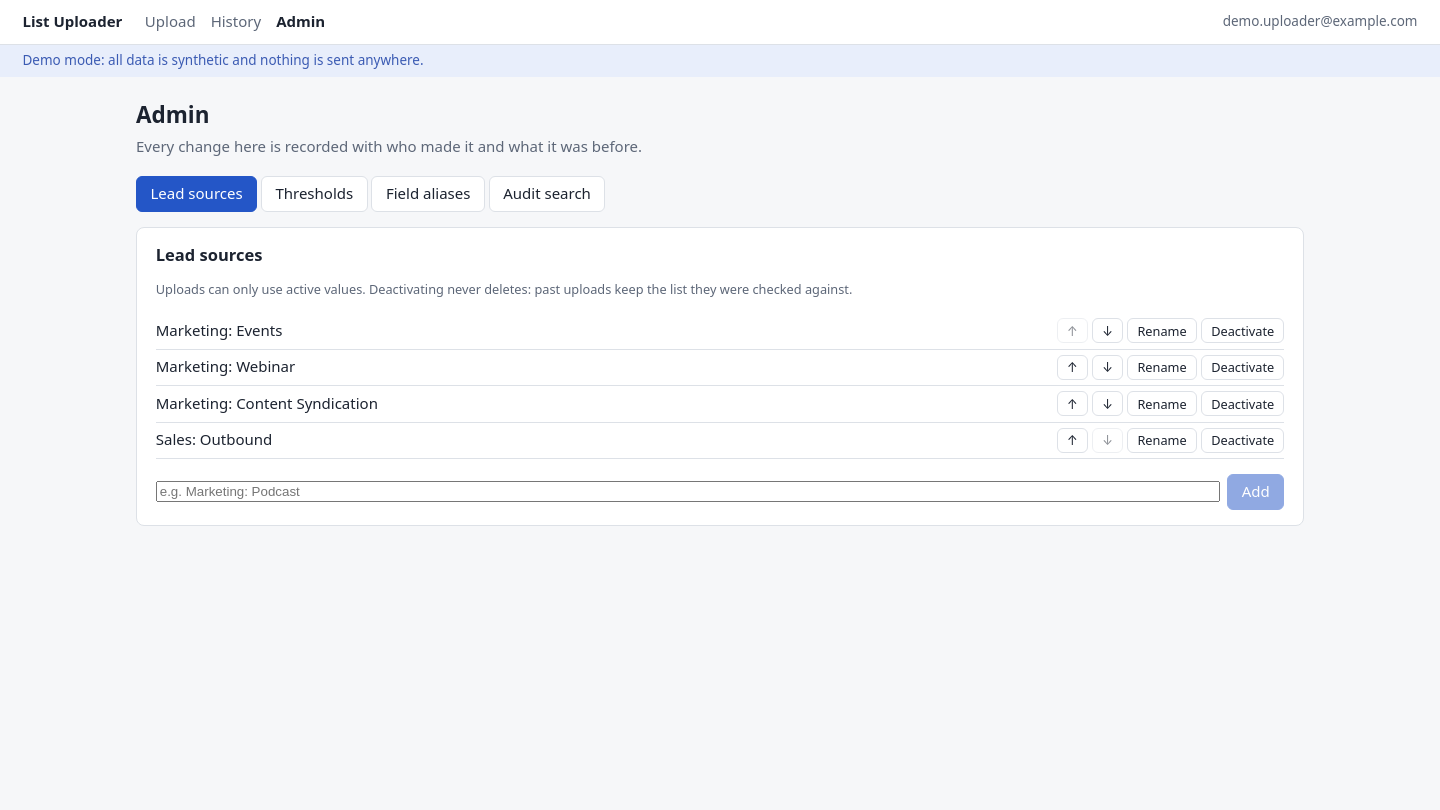
Test: admin › shows a reload prompt when someone else changed the setting
Click the tab "Lead sources" at (197, 194), box [136,176,257,212]
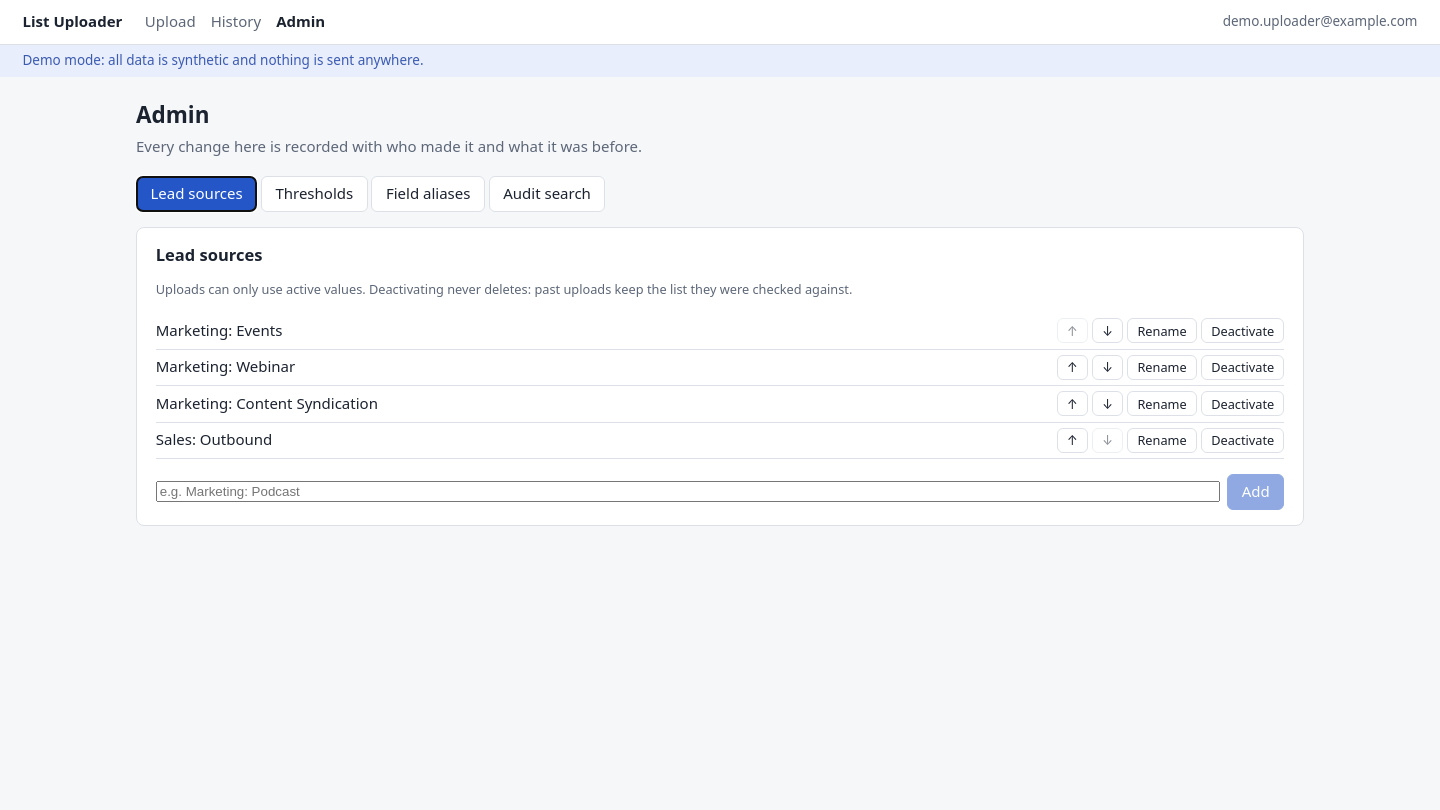
Type "X" into the field named "New lead source" at (688, 492), box [156,481,1220,502]
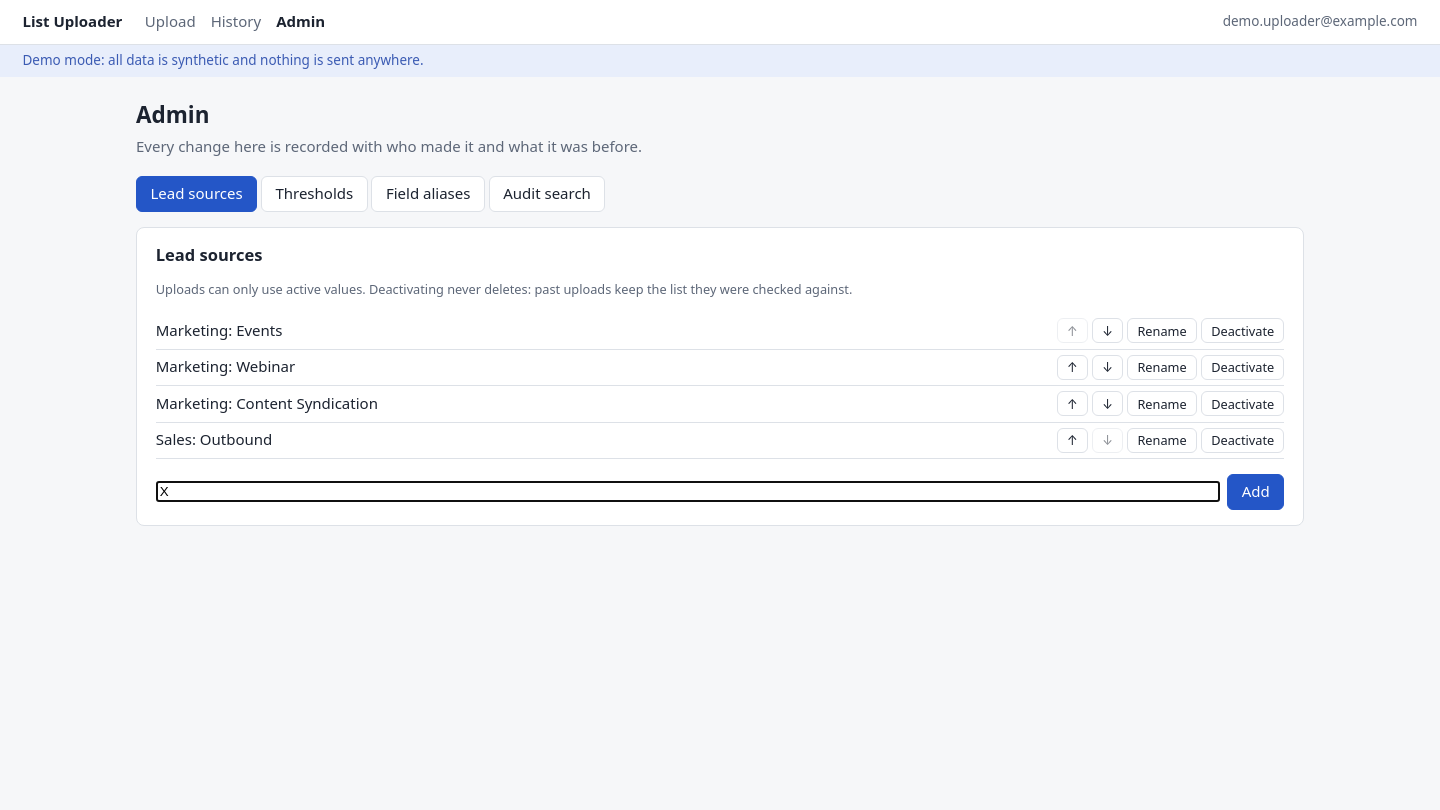
Click the button "Add" at (1256, 492), box [1227,474,1284,510]
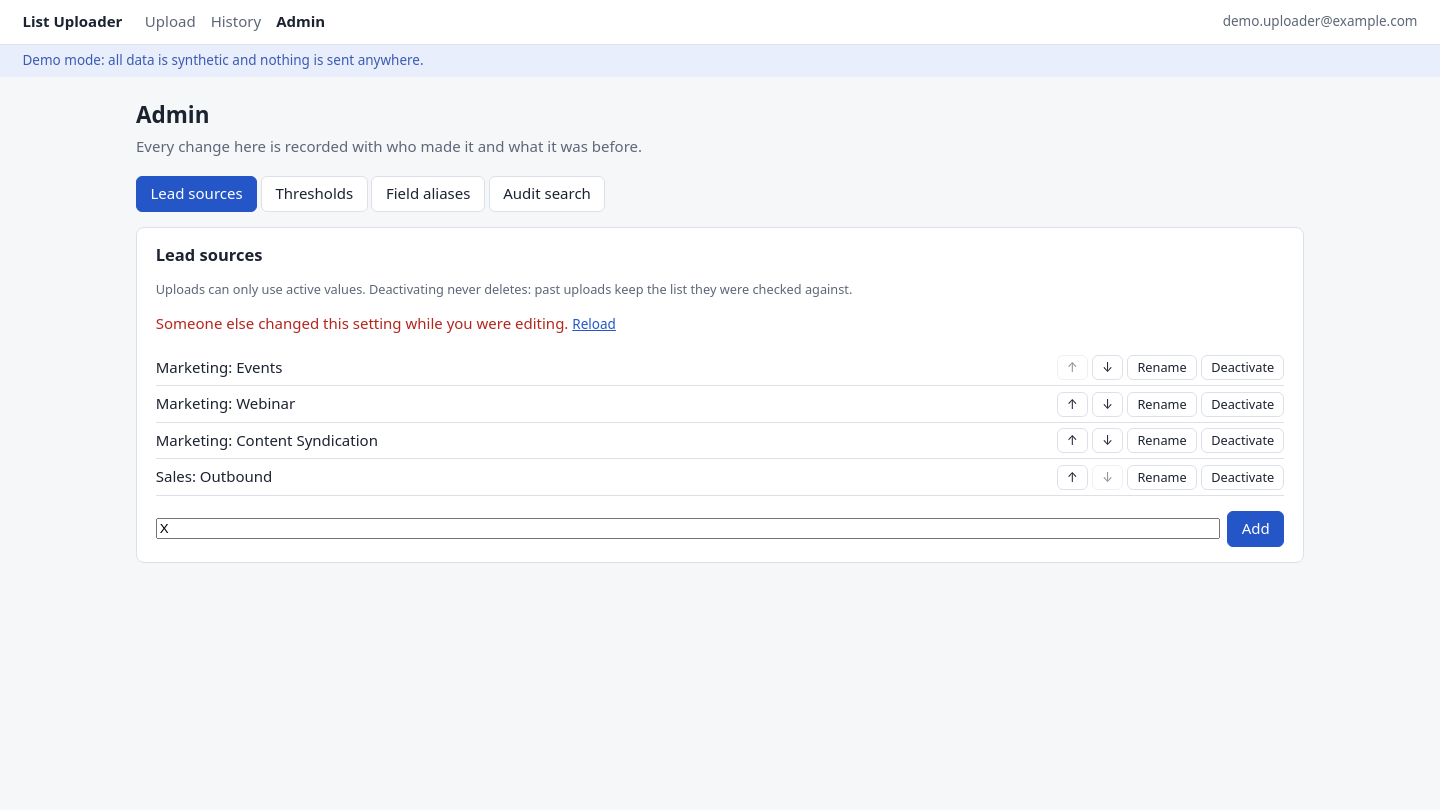
Check: the message shows "Someone else changed", box [156,313,568,333]
Check: the button "Reload" is shown, box [572,315,616,335]
